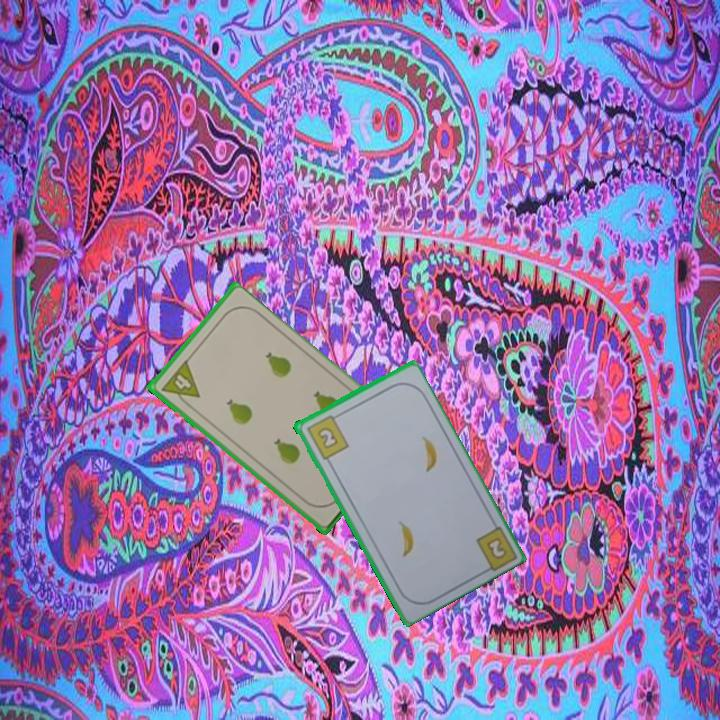2b: (302, 410, 351, 462), (483, 533, 509, 562)
4p: (157, 357, 202, 410)
